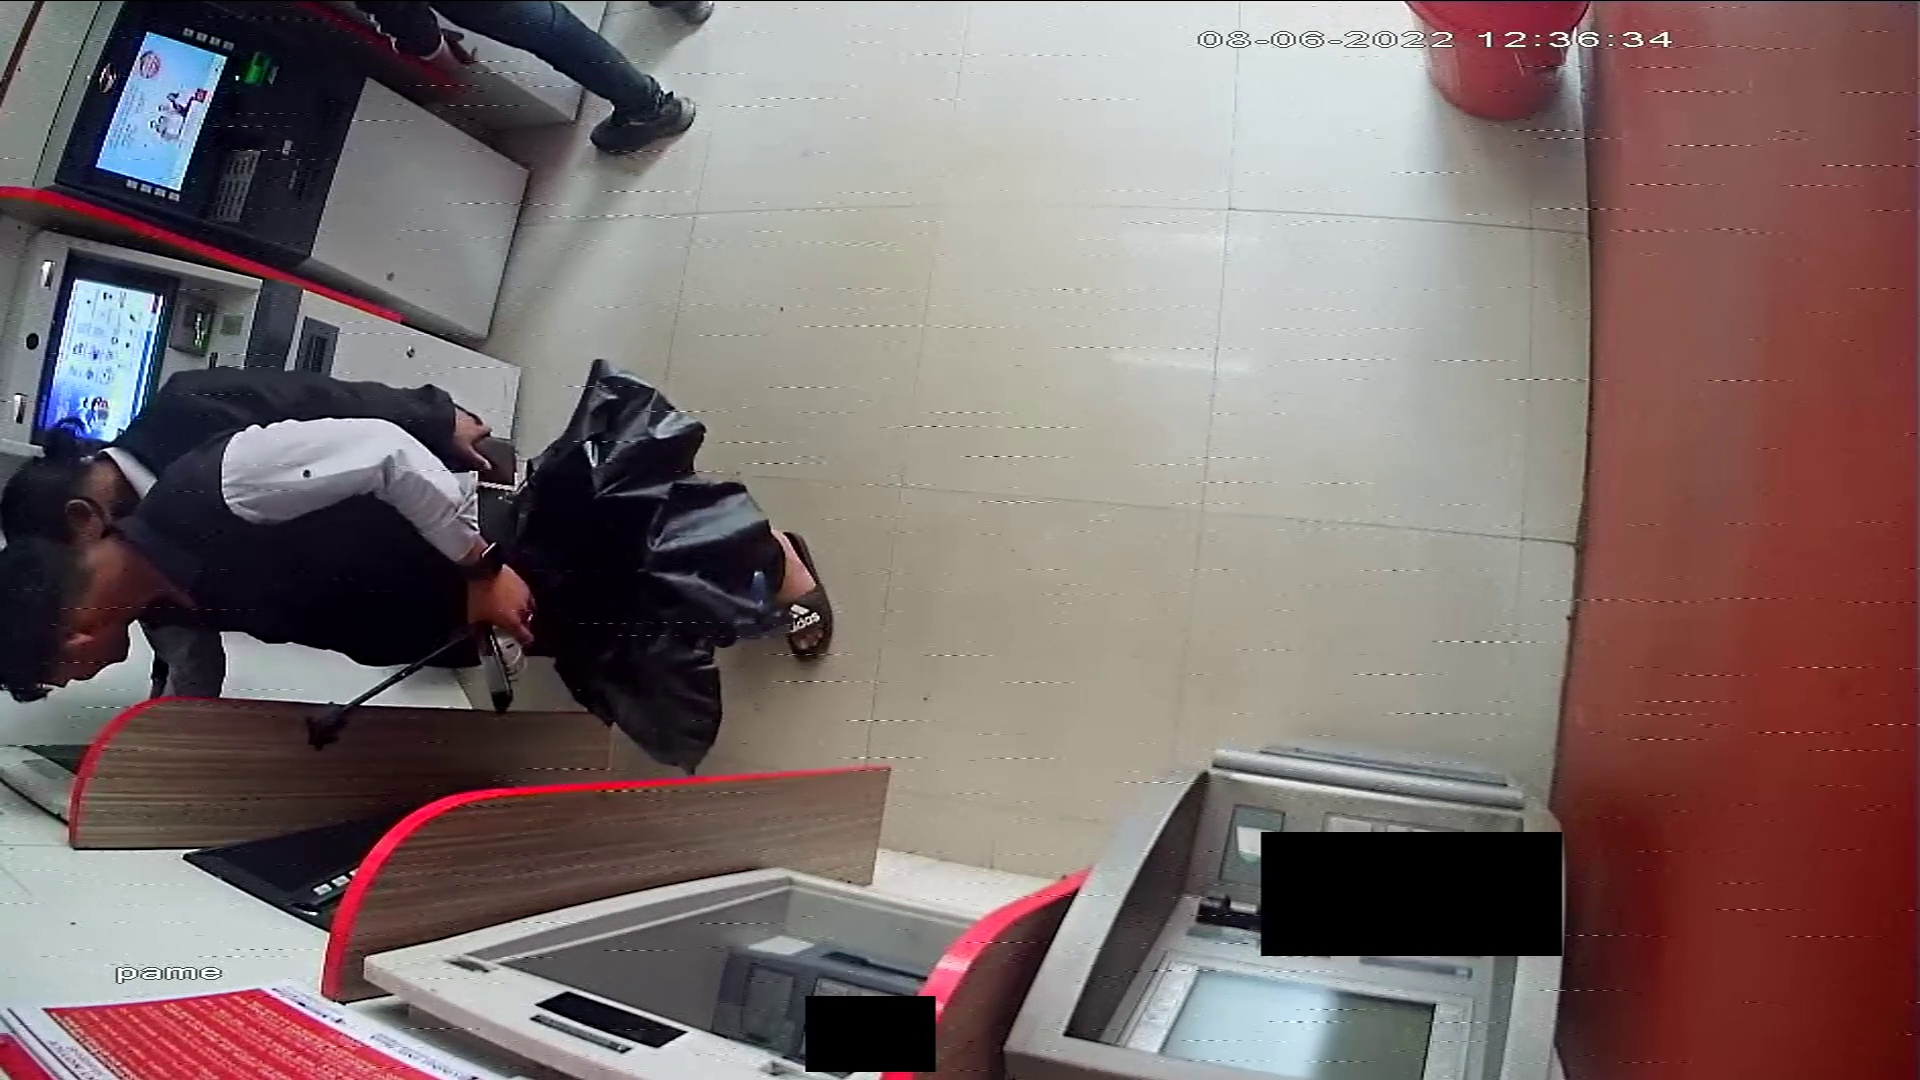person: (1, 424, 555, 694), (1, 372, 487, 550)
